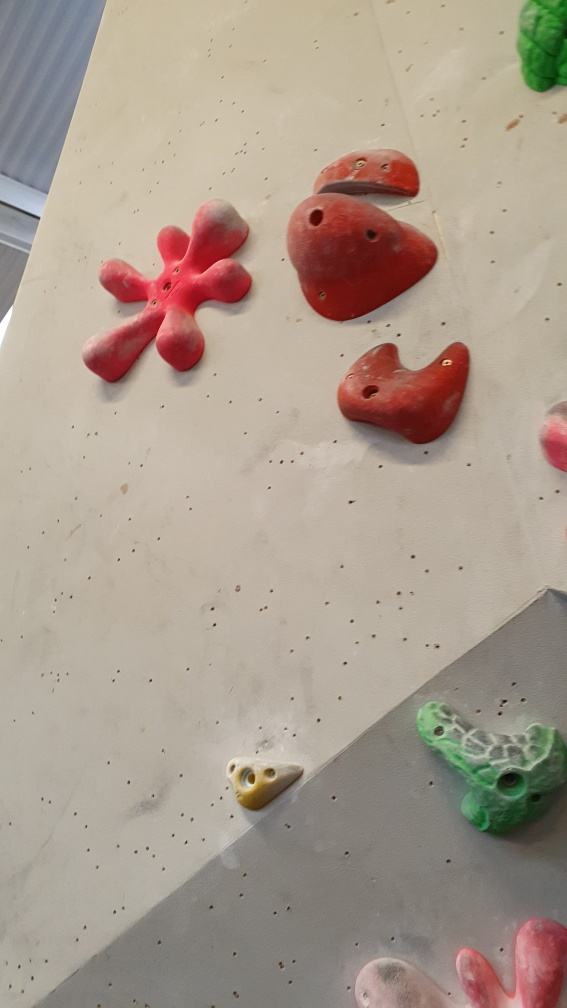Octopus Pinch: (80, 195, 262, 382)
